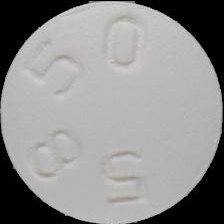69189-5850: (0, 0, 224, 224)
